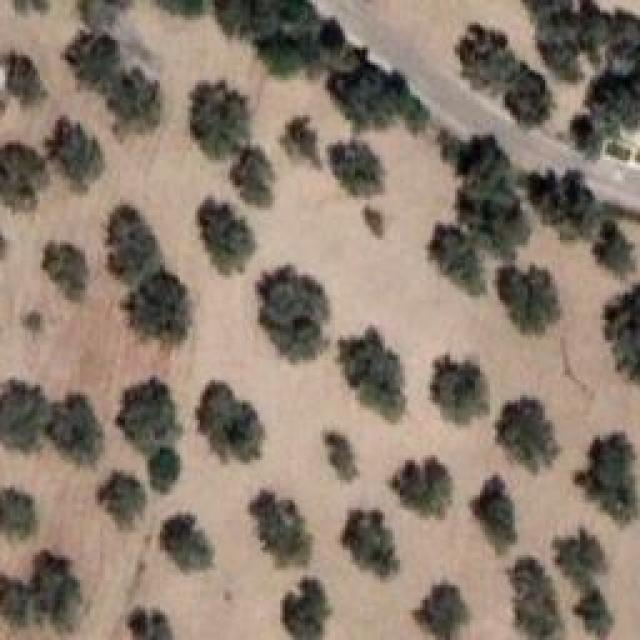Tree: (258, 265, 329, 362), (0, 552, 81, 632), (575, 428, 639, 528), (340, 328, 406, 424), (453, 188, 530, 261), (198, 380, 263, 463), (548, 20, 640, 78), (118, 378, 183, 456), (330, 65, 412, 126), (250, 490, 313, 567), (498, 398, 561, 474), (505, 560, 568, 636), (125, 275, 192, 346), (190, 80, 249, 158), (53, 392, 112, 470), (45, 117, 104, 192), (198, 198, 254, 275), (468, 475, 517, 562), (498, 268, 561, 333), (430, 223, 486, 296), (432, 355, 490, 425), (598, 282, 640, 377), (107, 205, 155, 284), (343, 513, 399, 579), (113, 70, 168, 137), (535, 170, 589, 237), (0, 377, 46, 455), (550, 528, 601, 598), (458, 138, 525, 191), (583, 75, 638, 139), (63, 32, 123, 88), (333, 138, 389, 198), (450, 23, 510, 79), (398, 458, 460, 512), (0, 143, 46, 211), (160, 513, 213, 571), (504, 68, 554, 125), (210, 2, 287, 39), (282, 577, 327, 640), (97, 473, 145, 530), (595, 220, 640, 280), (43, 243, 88, 301), (412, 580, 463, 631), (257, 30, 310, 79), (230, 147, 271, 207), (275, 110, 320, 159), (8, 53, 48, 105), (563, 115, 615, 155), (320, 432, 360, 481), (0, 490, 38, 540), (578, 593, 617, 639), (148, 448, 181, 495), (130, 607, 174, 640), (510, 0, 576, 20), (79, 0, 133, 23), (153, 0, 214, 19), (363, 198, 389, 240)
